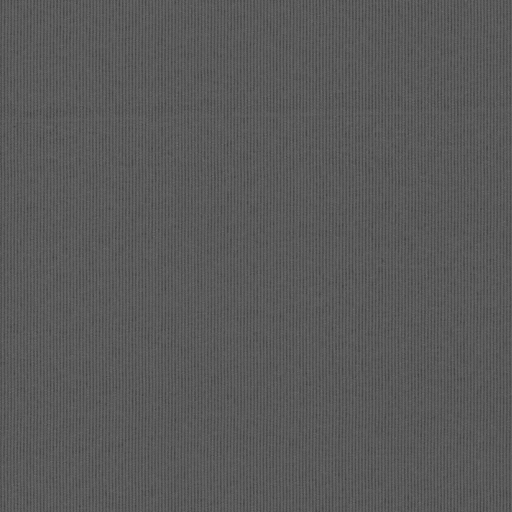defect: (1, 106, 512, 129)
